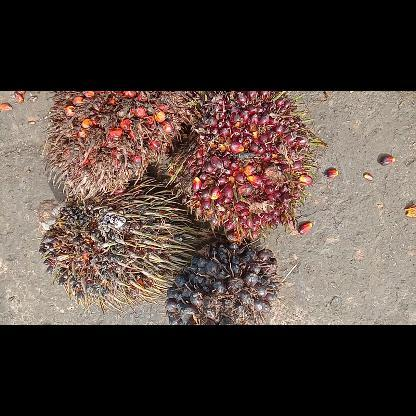TBS abnormal: (38, 172, 191, 302)
TBS masak: (170, 90, 324, 248)
TBS mentah: (166, 240, 280, 324)
Terlalu masak: (43, 91, 189, 199)
